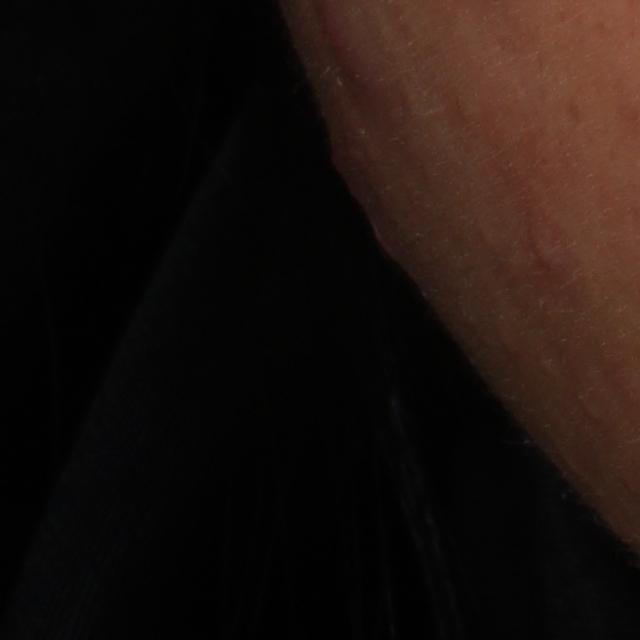papule: (318, 2, 397, 118), (530, 223, 563, 274)
